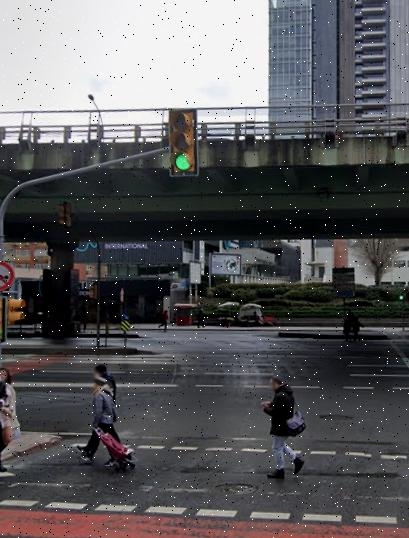greenlight: (168, 107, 198, 175), (398, 287, 406, 305)
